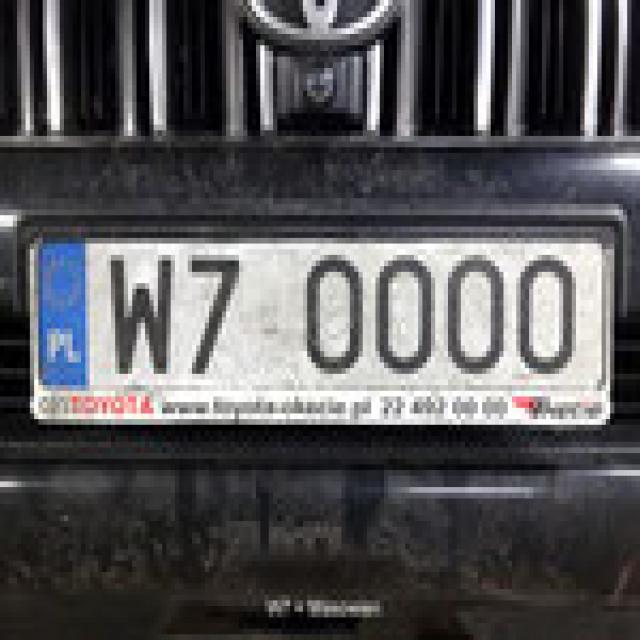pl_license_plate: (34, 232, 602, 385)
